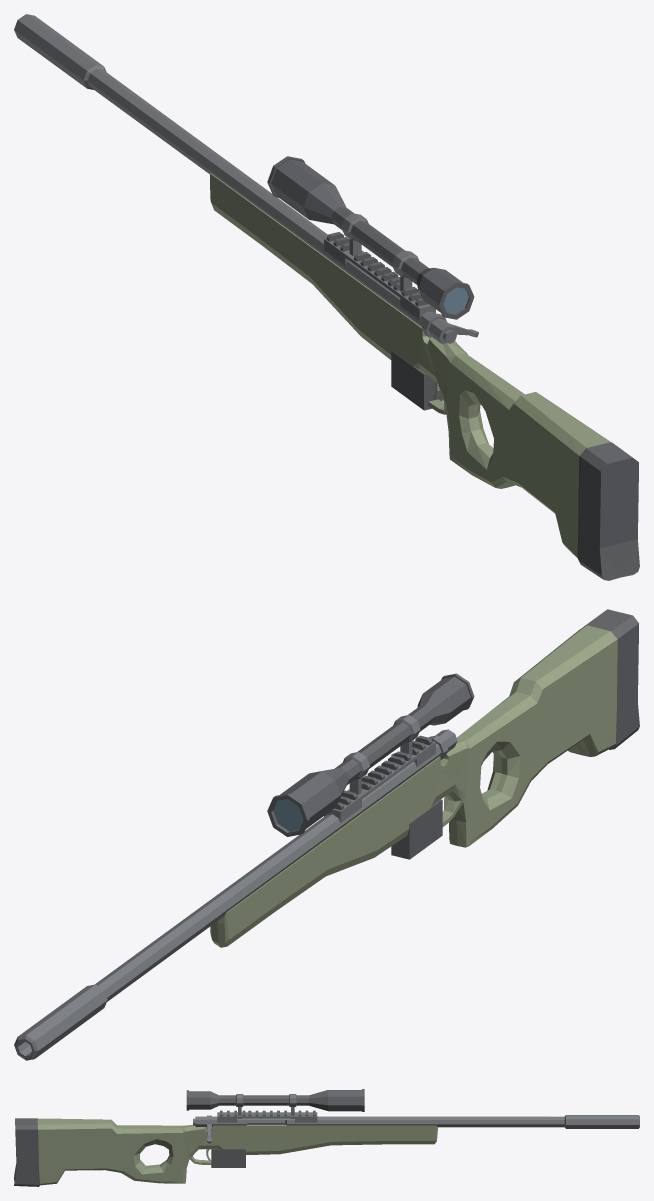
Rendered from hunt_5.glb.
The picture shows the model from 3 angles, top to bottom: view 1: azimuth 30°, elevation 25°; view 2: azimuth 150°, elevation 25°; view 3: azimuth 270°, elevation 25°; orthographic projection. The views are drawn at different scales.
Visible parts, largest first — view 1: body, mag; view 2: body, mag; view 3: body, mag.
Part boxes in pixels (x1,y1,x2,y2): body: [14, 14, 639, 580]; mag: [391, 351, 442, 410]; body: [14, 609, 639, 1060]; mag: [391, 799, 442, 859]; body: [14, 1089, 639, 1186]; mag: [211, 1148, 245, 1167].
Bounding box in the file's own units: 0.0704 × 0.1897 × 1.14.
